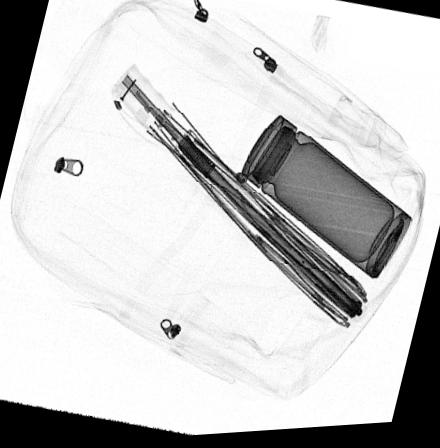Bullet: (371, 227, 405, 284)
